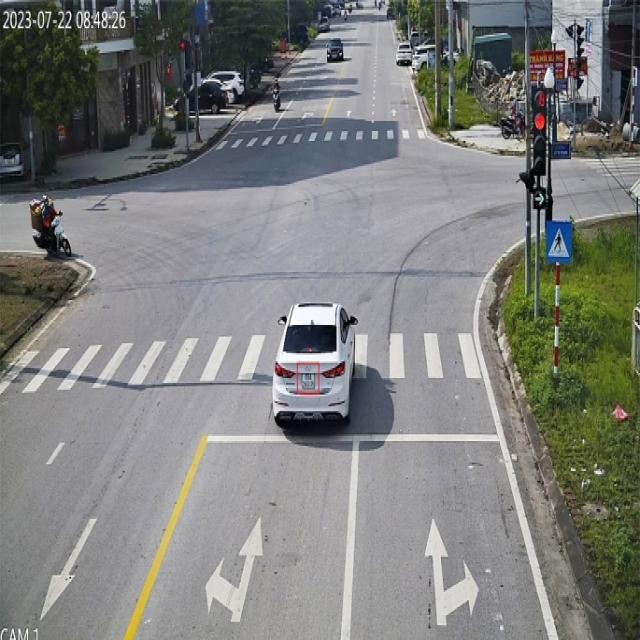Red: (534, 89, 548, 178)
